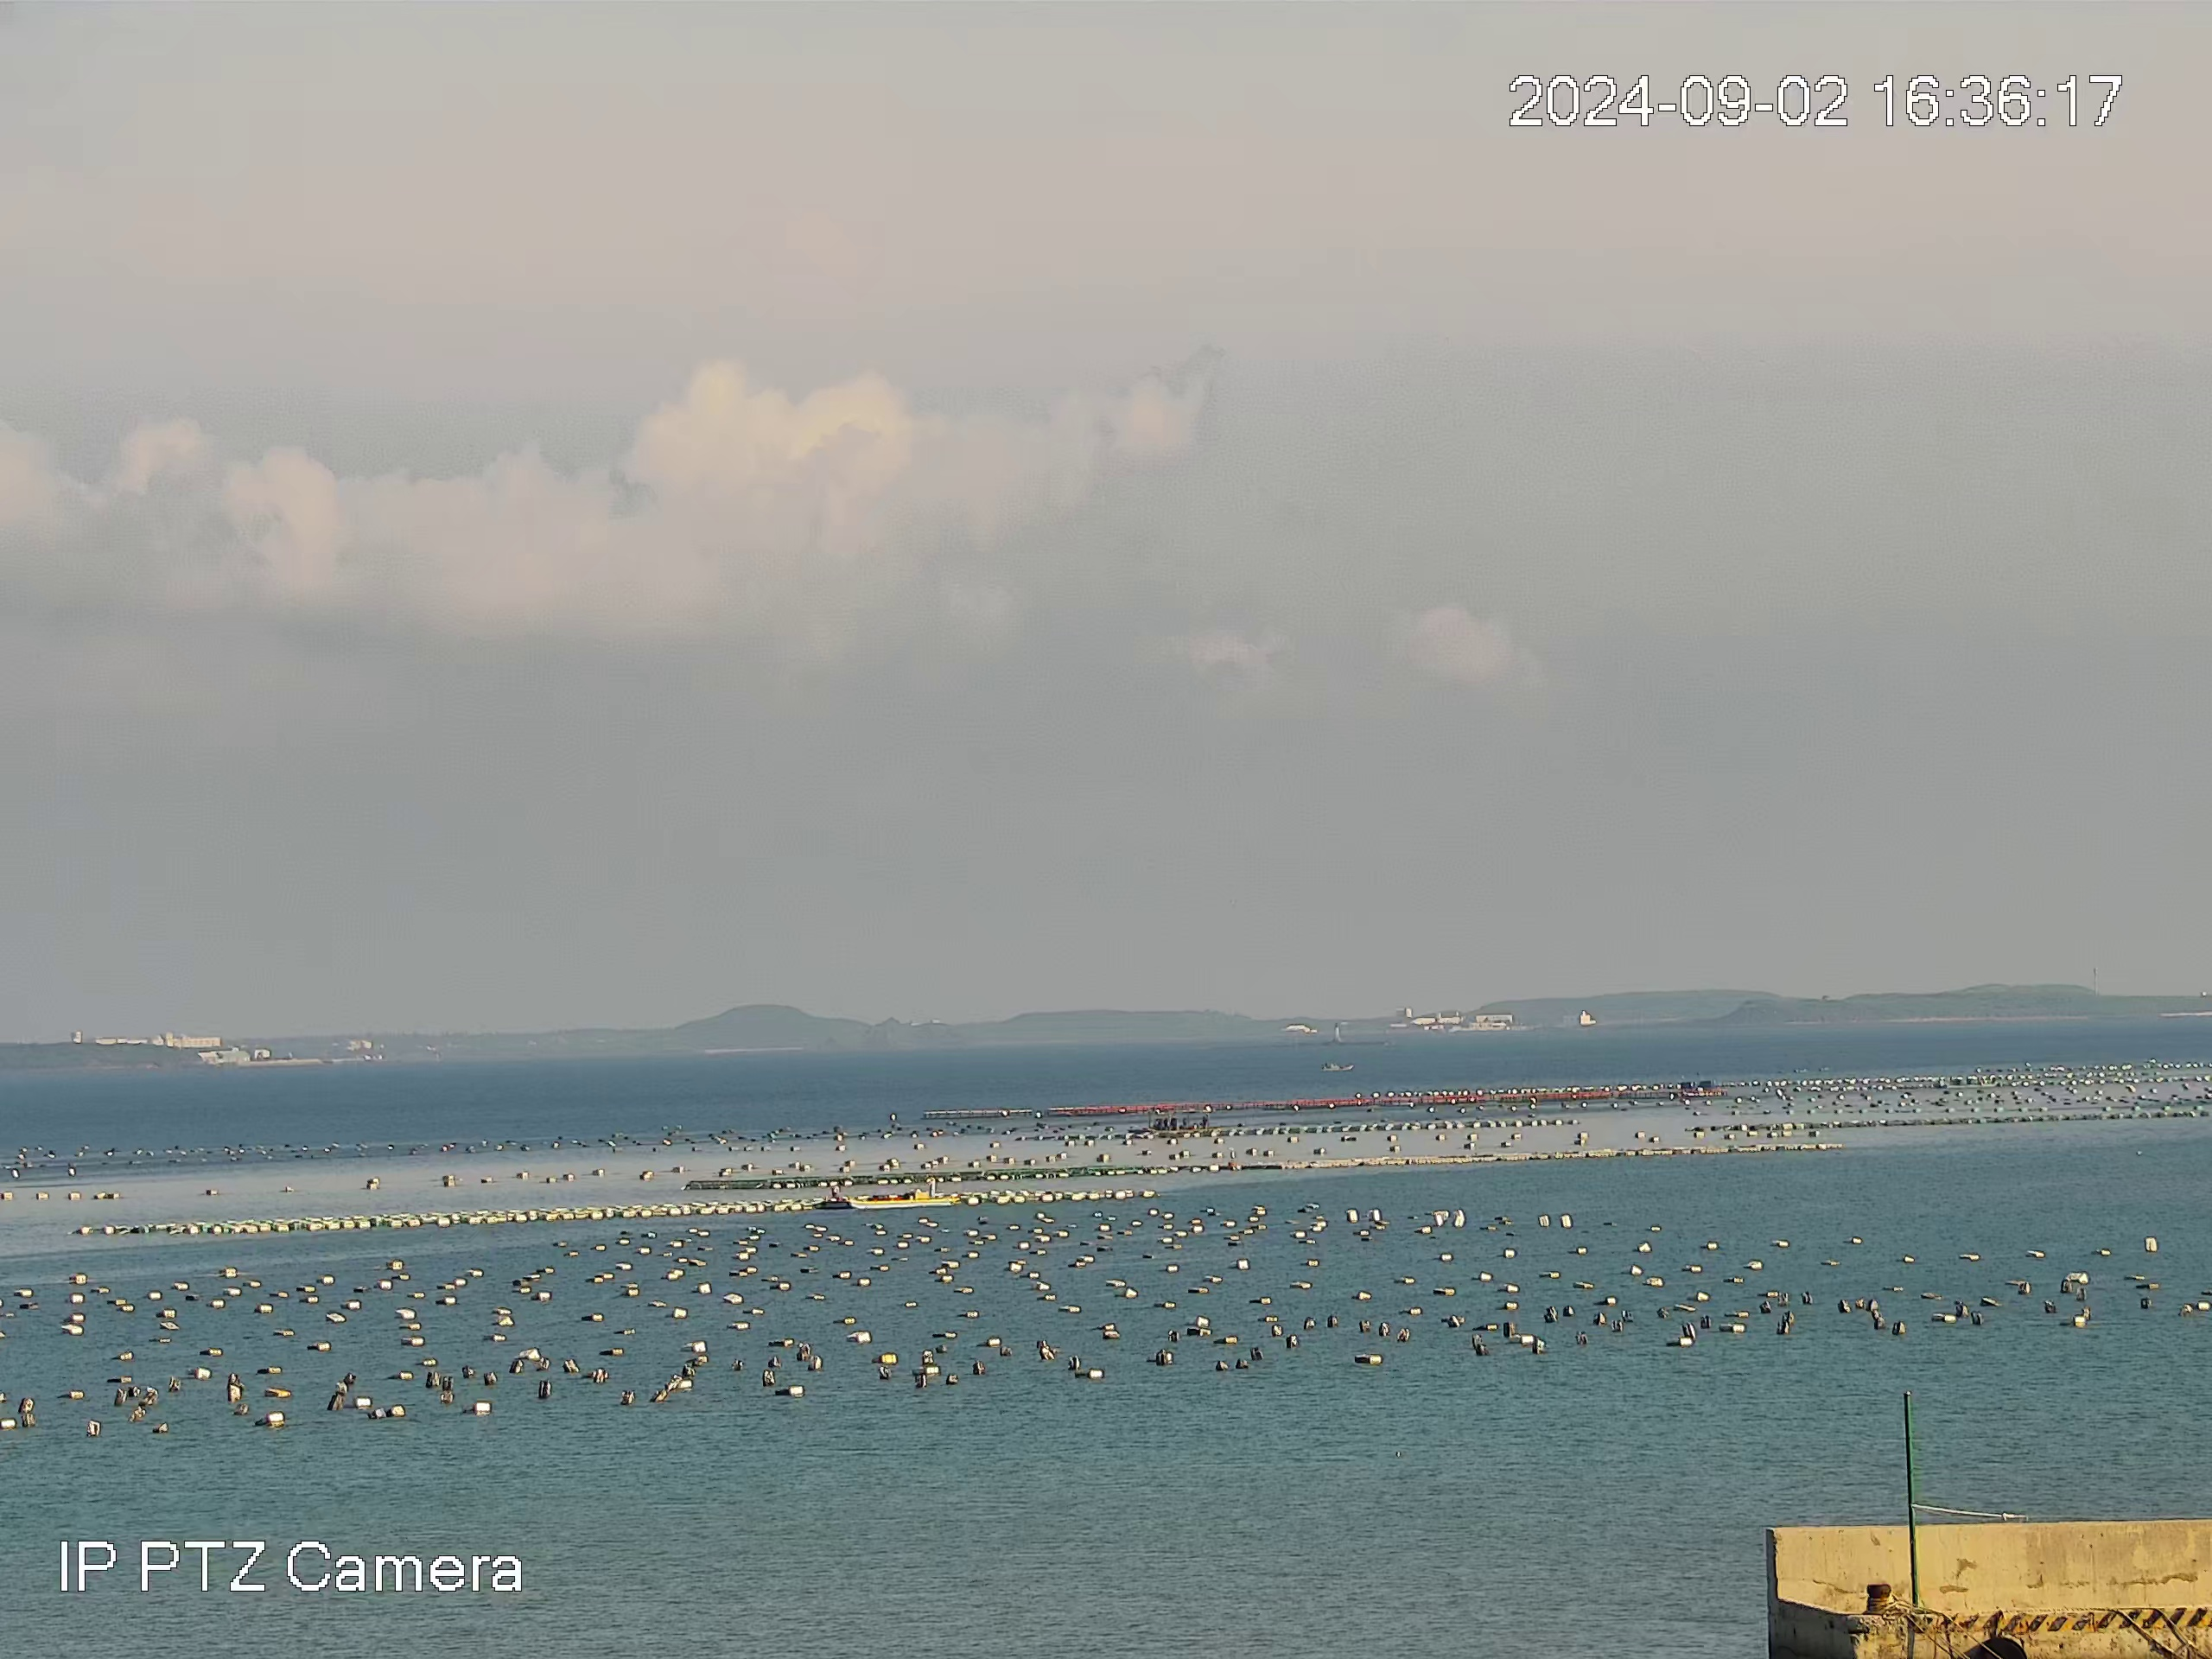boat: (845, 1176, 961, 1211), (1146, 1105, 1212, 1133), (1320, 1060, 1353, 1073)
